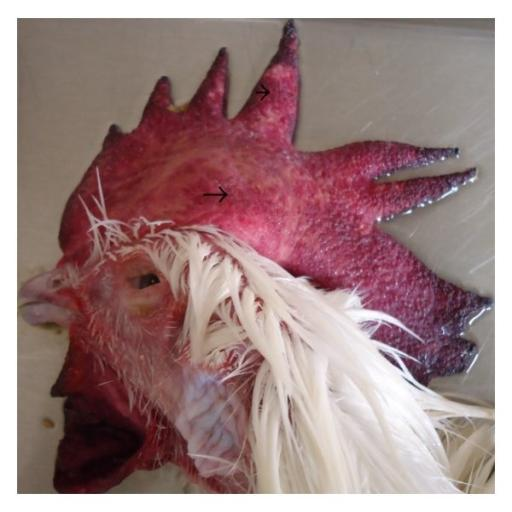disease: (385, 118, 488, 382), (169, 136, 336, 264), (135, 56, 303, 130), (93, 243, 194, 324)
